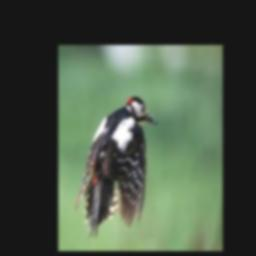Woodpecker: (76, 96, 158, 240)
